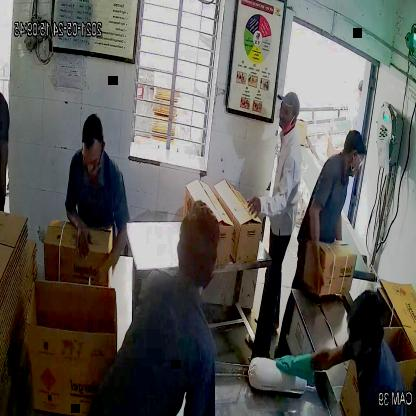no_goggles: (277, 102, 301, 121)
